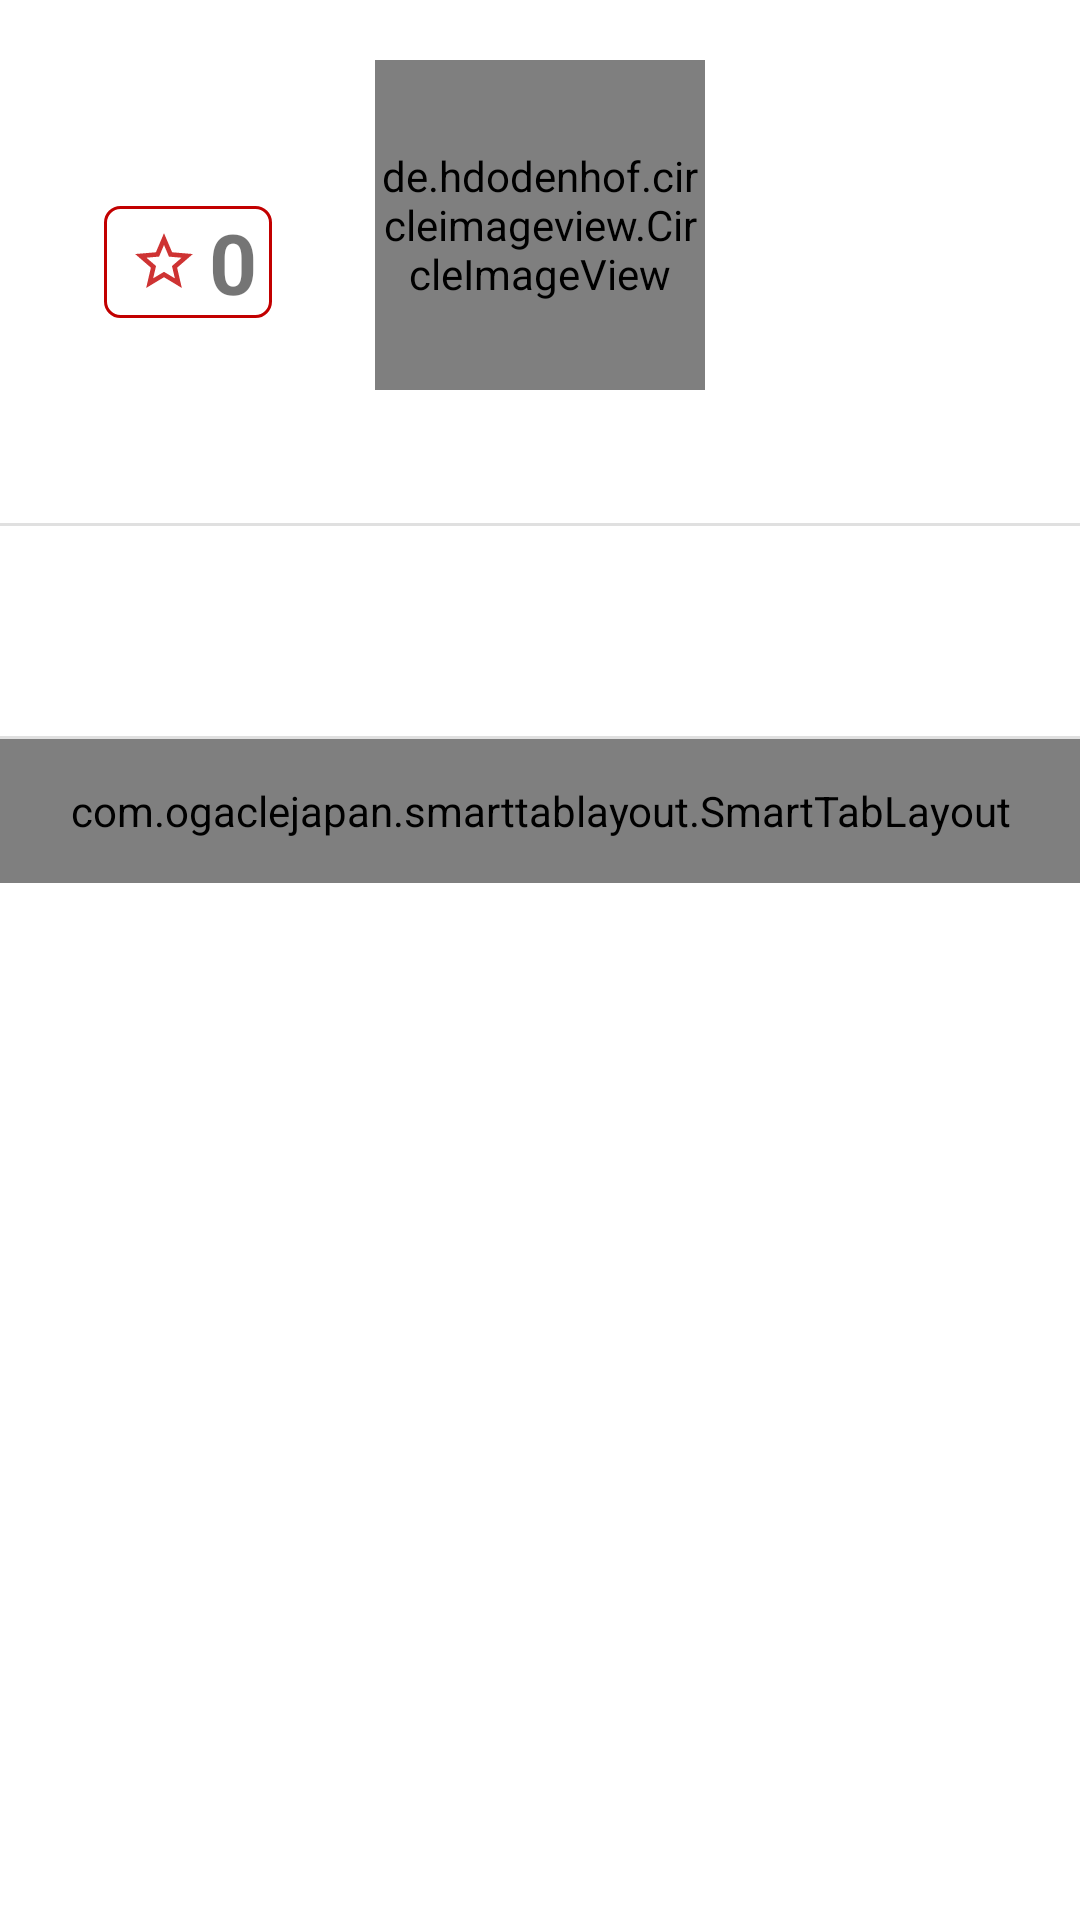

Icon bounding boxes for this 1080px×1920px phone screenshot, format (left=x1, top=y1, right=x2, bottom=y2):
star: (left=135, top=233, right=193, bottom=288)
